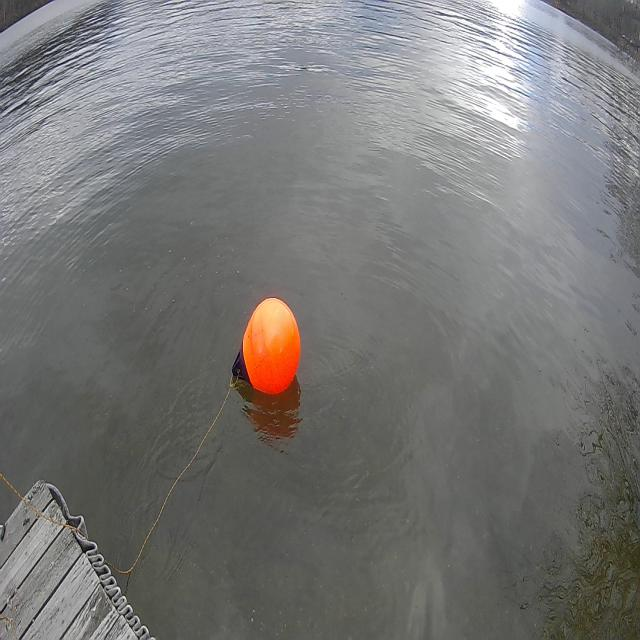Buoy: (240, 294, 302, 402)
